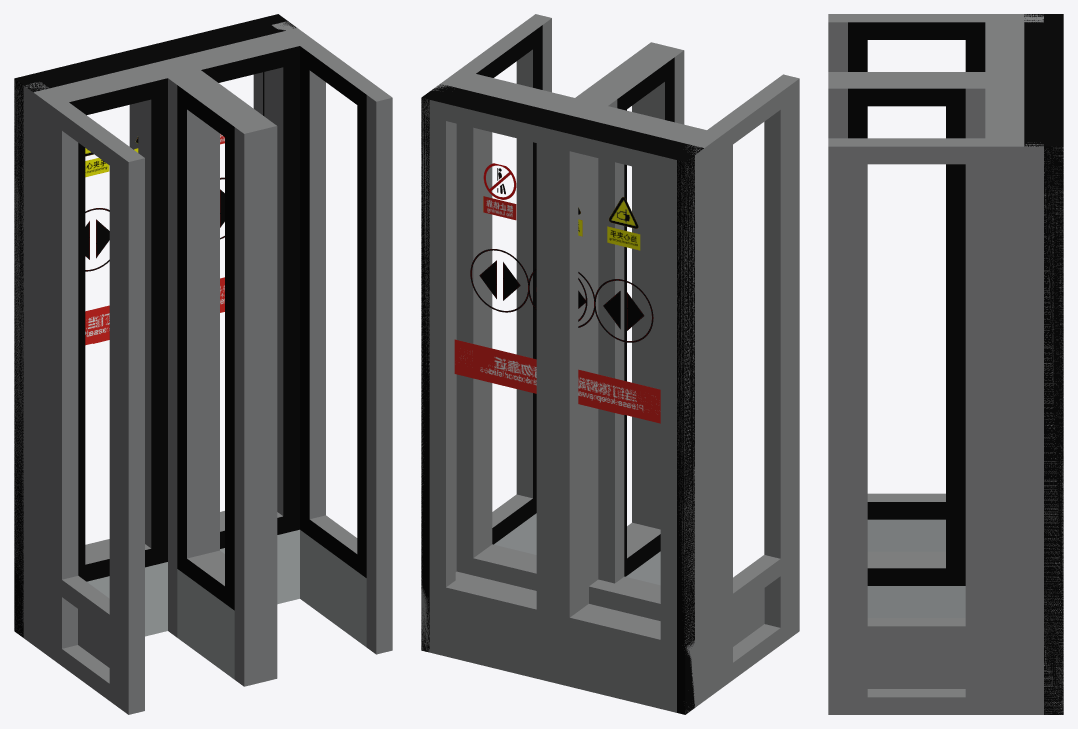
File: bj_screendoor_qg_1.obj
3 views of the same model, side by side, from view 1: azimuth 30°, elevation 25°; view 2: azimuth 150°, elevation 25°; view 3: azimuth 270°, elevation 25° (orthographic). The views are drawn at different scales.
Parts seen in each view (by area): view 1: g_rse, g_lle, g_rle, g_lde, g_lse, g_rde, l_c, r_c, l_eb, g_ld, r_ea, g_rd (+3 smaller); view 2: r_c, l_c, g_lle, g_rse, r_ea, l_ea, g_rd, g_rle, g_lde, l_eb, middle_door, g_lse (+5 smaller); view 3: g_rle, g_lse, g_rde, g_rd, l_c, r_eb, g_lle, r_c, g_rse, g_rg, g_ld, g_lde (+2 smaller).
Part boxes in pixels (bbox=[...]): g_rse: bbox=[142, 60, 260, 686]; g_lle: bbox=[23, 82, 144, 714]; g_rle: bbox=[274, 22, 392, 654]; g_lde: bbox=[33, 67, 183, 658]; g_lse: bbox=[169, 59, 277, 682]; g_rde: bbox=[175, 35, 315, 604]; l_c: bbox=[14, 14, 287, 637]; r_c: bbox=[14, 14, 286, 637]; l_eb: bbox=[23, 53, 164, 644]; g_ld: bbox=[23, 60, 174, 639]; r_ea: bbox=[23, 46, 155, 545]; g_rd: bbox=[165, 21, 306, 522]; r_c: bbox=[421, 91, 694, 714]; l_c: bbox=[421, 91, 694, 713]; g_lle: bbox=[695, 74, 799, 705]; g_rse: bbox=[573, 46, 684, 585]; r_ea: bbox=[553, 125, 684, 712]; l_ea: bbox=[429, 93, 560, 682]; g_rd: bbox=[431, 78, 581, 590]; g_rle: bbox=[432, 14, 551, 554]; g_lde: bbox=[582, 102, 723, 700]; l_eb: bbox=[563, 116, 704, 707]; middle_door: bbox=[429, 98, 684, 711]; g_lse: bbox=[560, 42, 667, 541]; g_rle: bbox=[828, 138, 1043, 714]; g_lse: bbox=[828, 80, 1023, 617]; g_rde: bbox=[985, 80, 1024, 714]; g_rd: bbox=[1004, 80, 1043, 714]; l_c: bbox=[1044, 14, 1063, 714]; r_eb: bbox=[1024, 80, 1043, 714]; g_lle: bbox=[828, 14, 1043, 551]; r_c: bbox=[1044, 14, 1063, 714]; g_rse: bbox=[828, 72, 1023, 559]; g_rg: bbox=[1004, 80, 1024, 714]; g_ld: bbox=[1004, 14, 1043, 80]; g_lde: bbox=[985, 14, 1024, 80].
Bounding box in the file's own units: 1 × 2 × 0.75.
4 materials, 4 textured.
